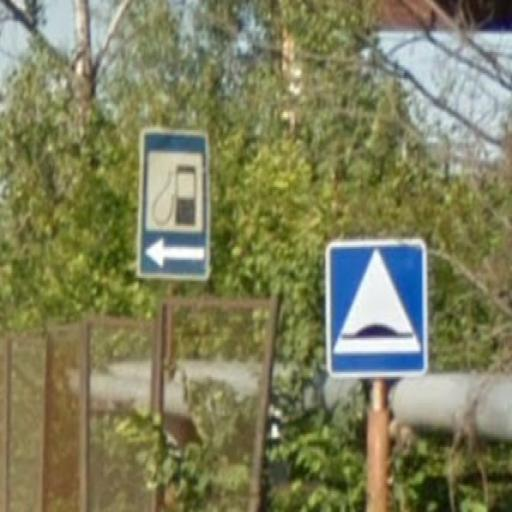traffic_sign: (327, 240, 430, 380), (137, 128, 213, 284)
